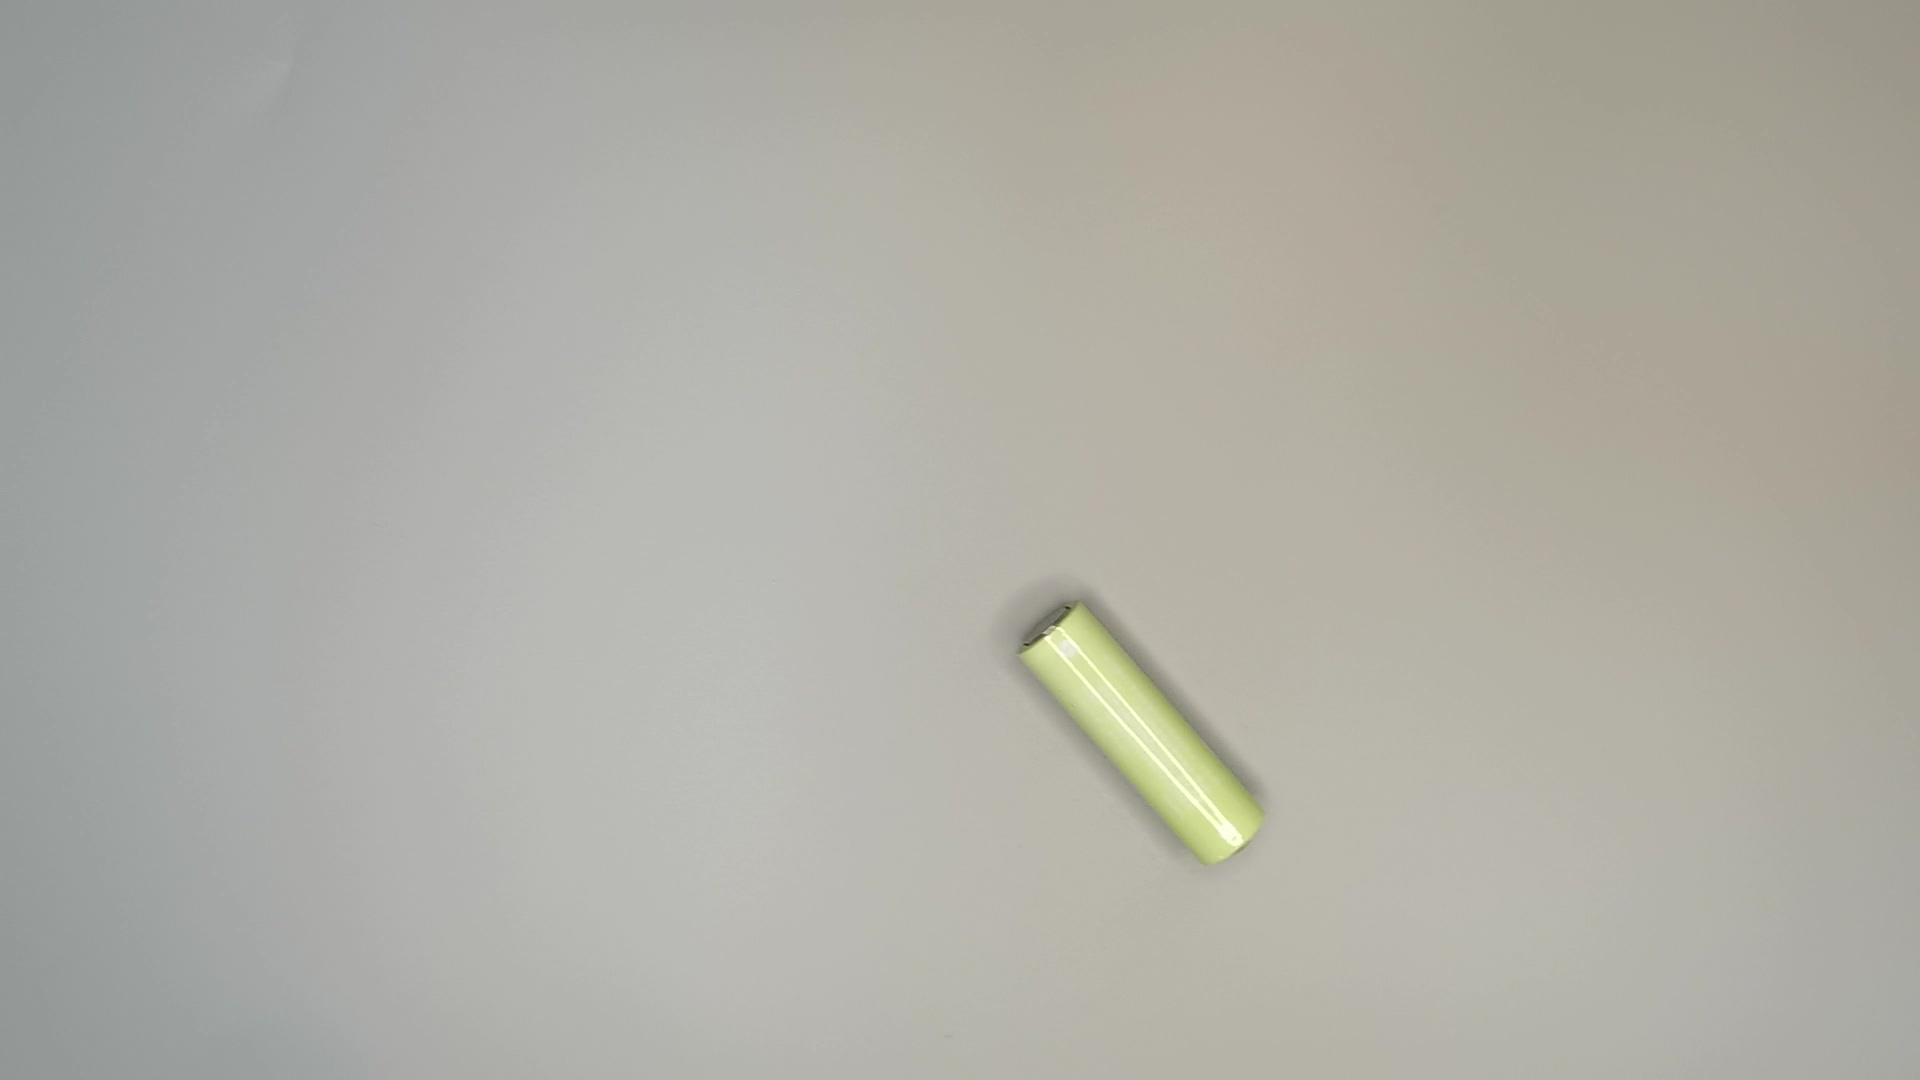battery: (1007, 593, 1275, 874)
